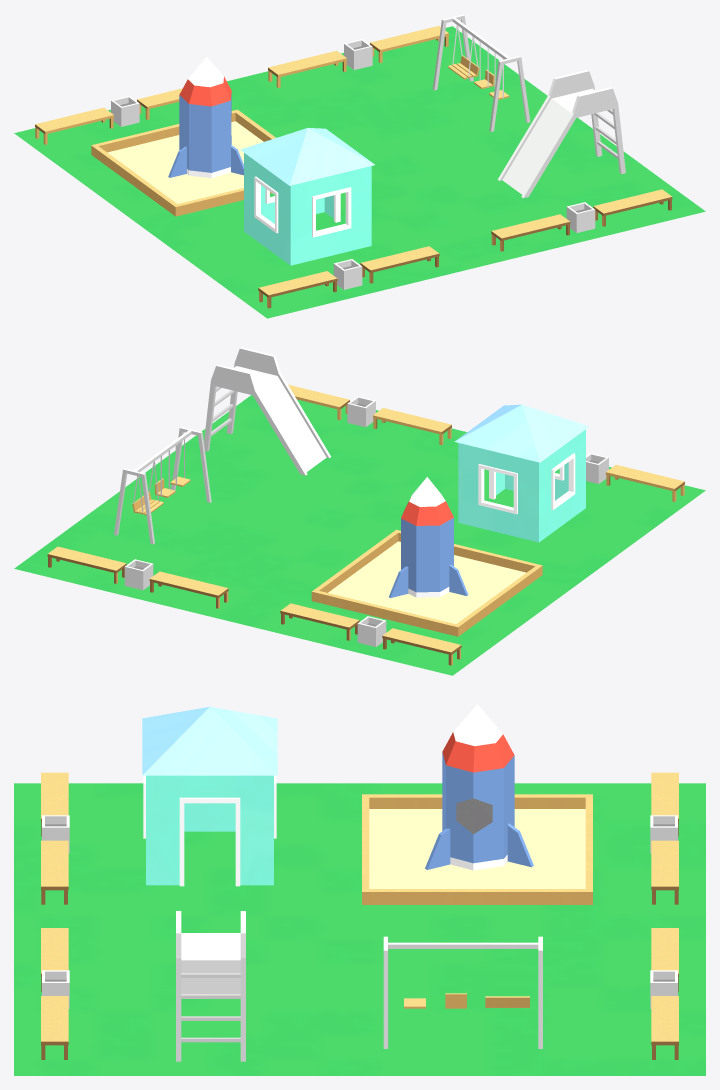
The model's file is landscape_entertainments.005.glb.
The picture shows the model from 3 angles, top to bottom: view 1: azimuth 30°, elevation 25°; view 2: azimuth 150°, elevation 25°; view 3: azimuth 270°, elevation 25°; orthographic projection. The views are drawn at different scales.
Visible parts, largest first — view 1: landscape_entertainments.005(Clone); view 2: landscape_entertainments.005(Clone); view 3: landscape_entertainments.005(Clone).
Boxes of the visible parts, box(x1,y1,x2,y2) form: landscape_entertainments.005(Clone): box(14, 14, 705, 318); landscape_entertainments.005(Clone): box(14, 347, 705, 675); landscape_entertainments.005(Clone): box(14, 704, 705, 1075).
Bounding box in the file's own units: 16 × 4.01 × 16.
Materials: 1 (1 with a texture image).
